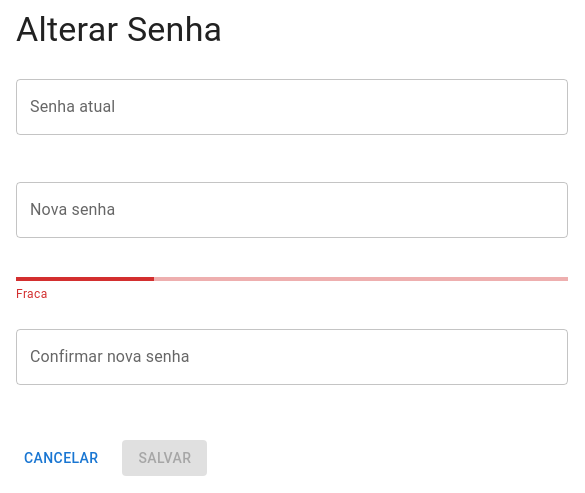
Test: SenhaPage › senha >= 14 chars exibe indicador Forte
The width and height of the screenshot is (585, 493).
In the password field labelled "Nova senha": (292, 210) [16,182,568,238], type "SenhaForte123456"
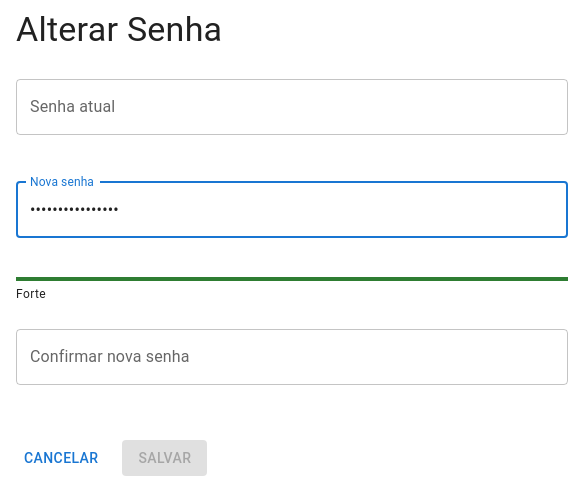
Expected: the text "Forte" is shown, [16,287,46,301]
